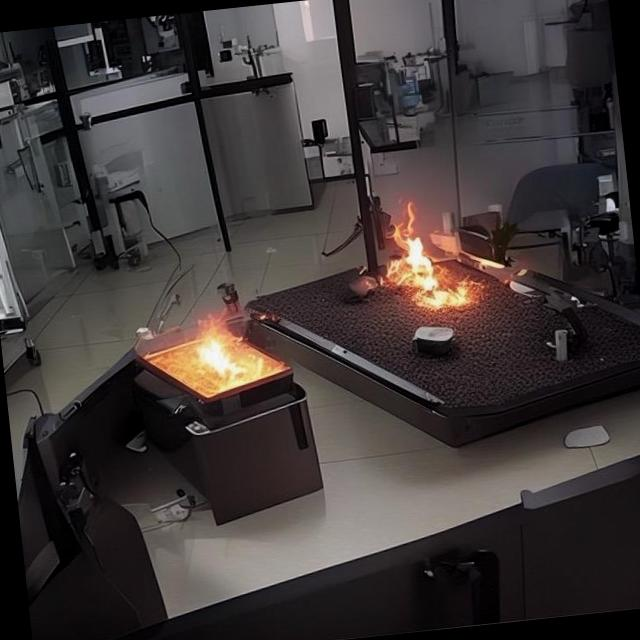fire: (143, 287, 280, 412), (360, 210, 479, 344)
